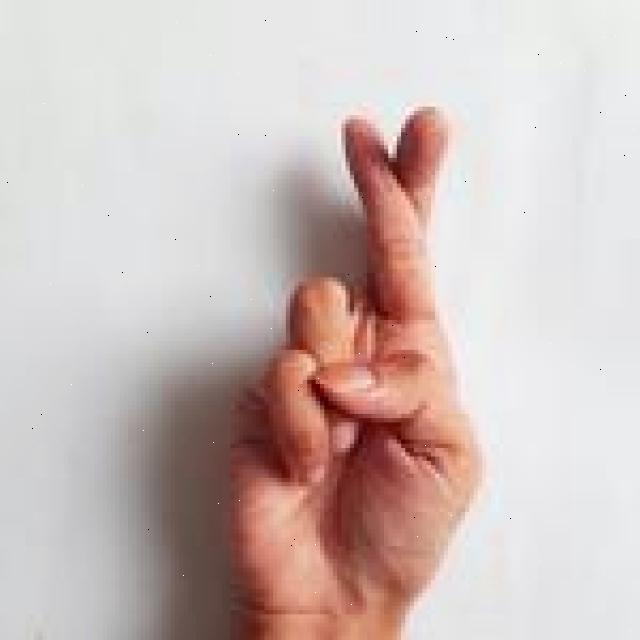R: (218, 95, 492, 640)
